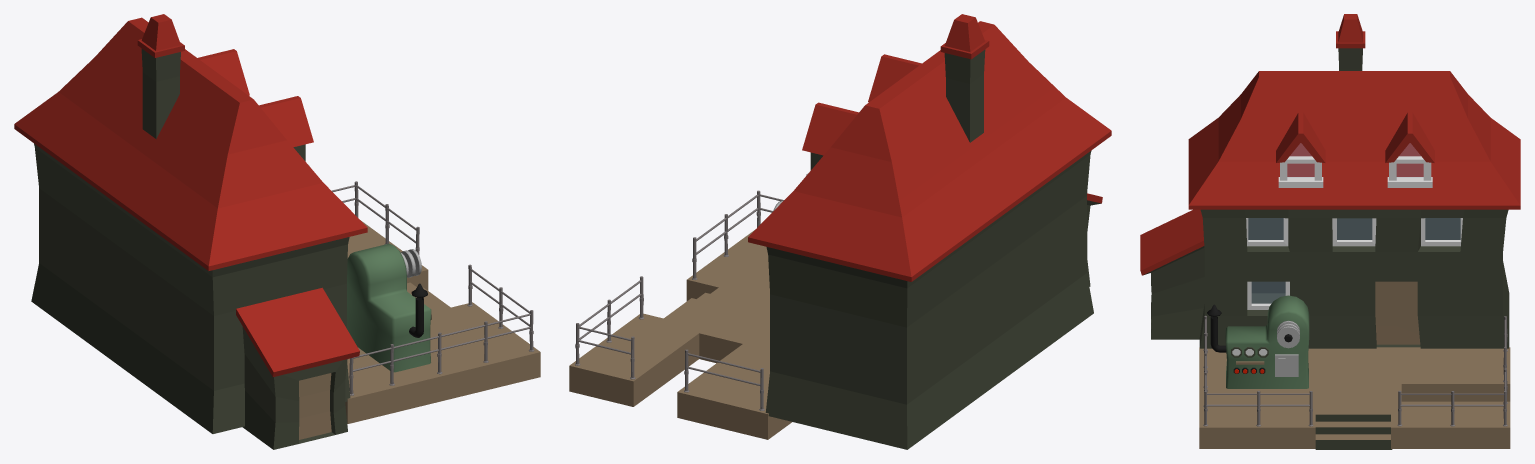
File: Lomnicky_EstacionInferior.fbx
The picture shows the model from 3 angles, left to right: view 1: azimuth 30°, elevation 25°; view 2: azimuth 150°, elevation 25°; view 3: azimuth 270°, elevation 25°; orthographic projection. The views are drawn at different scales.
Visible parts, largest first — view 1: estacion_inferior, plataforma_inferior, motor_funicular, barandilla; view 2: estacion_inferior, plataforma_inferior, barandilla; view 3: estacion_inferior, plataforma_inferior, motor_funicular, barandilla.
Boxes of the visible parts, x1,y1,x2,y2 form: estacion_inferior: [14, 14, 367, 449]; plataforma_inferior: [345, 220, 540, 423]; motor_funicular: [347, 243, 431, 372]; barandilla: [331, 181, 534, 395]; estacion_inferior: [748, 14, 1111, 449]; plataforma_inferior: [569, 229, 791, 439]; barandilla: [575, 190, 783, 410]; estacion_inferior: [1140, 14, 1520, 348]; plataforma_inferior: [1199, 347, 1510, 449]; motor_funicular: [1207, 295, 1309, 388]; barandilla: [1203, 315, 1507, 426].
Bounding box in the file's own units: 1099 × 1142 × 1253.
